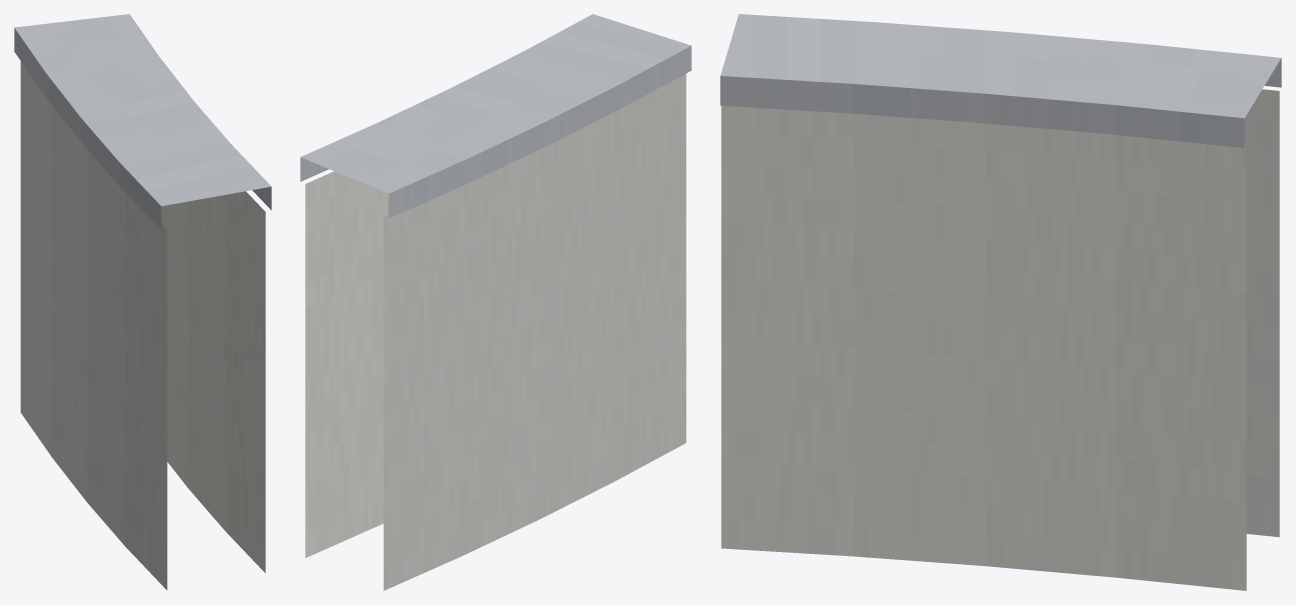
File: curve_board_01.obj
The picture shows the model from 3 angles, left to right: view 1: azimuth 30°, elevation 25°; view 2: azimuth 150°, elevation 25°; view 3: azimuth 270°, elevation 25°; orthographic projection. The views are drawn at different scales.
Visible parts, largest first — view 1: curve_board_01; view 2: curve_board_01; view 3: curve_board_01.
Boxes of the visible parts, x1,y1,x2,y2 form: curve_board_01: (14,14,271,590); curve_board_01: (300,14,691,590); curve_board_01: (720,14,1281,590).
Size of the model in its own units: 0.47 by 1 by 1.07.
